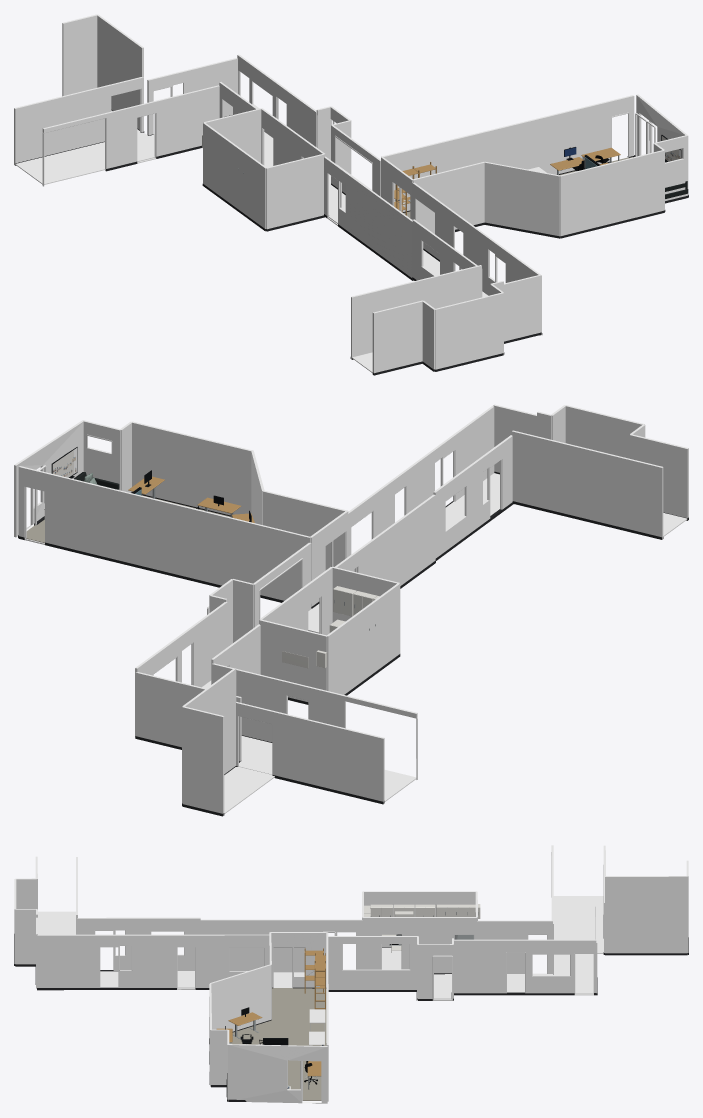
3 views of the same model, one above another, from view 1: azimuth 30°, elevation 25°; view 2: azimuth 150°, elevation 25°; view 3: azimuth 270°, elevation 25° (orthographic). The views are drawn at different scales.
Visible parts, largest first — view 1: architecture_region_lab-wall-1, architecture_region_lab-wall-5, architecture_region_north-inner, architecture_region_north-outer, architecture_region_lab-hall-west, architecture_region_lab-wall-6, architecture_region_west-inner, architecture_region_west-alcove-back, architecture_region_kitchen-wall-4, architecture_region_kitchen-wall-3, architecture_region_south-hall-east, architecture_region_west-outer-left (+20 smaller); view 2: architecture_region_lab-wall-1, architecture_region_west-inner, architecture_region_lab-wall-5, architecture_region_north-outer, architecture_region_south-hall-east, architecture_region_kitchen-wall-4, architecture_region_north-inner, architecture_region_lab-hall-west, architecture_region_stair-north, architecture_region_south-hall-west, architecture_region_north-entry, architecture_region_kitchen-wall-1 (+21 smaller); view 3: architecture_region_south-hall-east, architecture_region_stair-east, architecture_region_central-east, architecture_region_lab-wall-2, architecture_region_lab-hall-west, architecture_floor_lab-2f, architecture_region_kitchen-wall-2, architecture_floor_north-hall-2f, architecture_region_central-east-south, architecture_region_lab-wall-6, architecture_region_south-hall-west, architecture_region_central-west (+11 smaller).
Boxes of the visible parts, <box> form: architecture_region_lab-wall-1: <box>381,95,634,211</box>; architecture_region_lab-wall-5: <box>560,150,664,237</box>; architecture_region_north-inner: <box>42,85,219,186</box>; architecture_region_north-outer: <box>14,85,108,165</box>; architecture_region_lab-hall-west: <box>324,156,412,277</box>; architecture_region_lab-wall-6: <box>484,161,560,236</box>; architecture_region_west-inner: <box>351,265,481,359</box>; architecture_region_west-alcove-back: <box>434,292,503,369</box>; architecture_region_kitchen-wall-4: <box>203,122,266,228</box>; architecture_region_kitchen-wall-3: <box>266,154,324,229</box>; architecture_region_south-hall-east: <box>412,182,541,335</box>; architecture_region_west-outer-left: <box>372,300,422,373</box>; architecture_region_lab-wall-1: <box>18,466,310,600</box>; architecture_region_west-inner: <box>511,430,663,539</box>; architecture_region_lab-wall-5: <box>131,421,253,515</box>; architecture_region_north-outer: <box>275,711,384,803</box>; architecture_region_south-hall-east: <box>348,405,494,571</box>; architecture_region_kitchen-wall-4: <box>326,583,400,694</box>; architecture_region_north-inner: <box>211,663,417,779</box>; architecture_region_lab-hall-west: <box>335,494,435,585</box>; architecture_region_stair-north: <box>182,706,224,815</box>; architecture_region_south-hall-west: <box>433,435,512,557</box>; architecture_region_north-entry: <box>135,672,241,761</box>; architecture_region_kitchen-wall-1: <box>259,619,327,701</box>; architecture_region_south-hall-east: <box>37,934,269,989</box>; architecture_region_stair-east: <box>605,876,687,953</box>; architecture_region_central-east: <box>454,939,596,995</box>; architecture_region_lab-wall-2: <box>228,1044,327,1103</box>; architecture_region_lab-hall-west: <box>200,919,362,972</box>; architecture_floor_lab-2f: <box>229,988,326,1100</box>; architecture_region_kitchen-wall-2: <box>363,917,476,973</box>; architecture_floor_north-hall-2f: <box>553,896,603,994</box>; architecture_region_central-east-south: <box>328,936,417,989</box>; architecture_region_lab-wall-6: <box>210,964,271,1031</box>; architecture_region_south-hall-west: <box>77,917,200,970</box>; architecture_region_central-west: <box>477,920,552,973</box>.
Bounding box in the file's own units: 24.21 × 4.21 × 32.79.
Materials: 30 (1 with a texture image).
